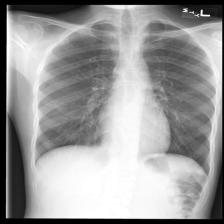normal: (29, 16, 216, 180)
